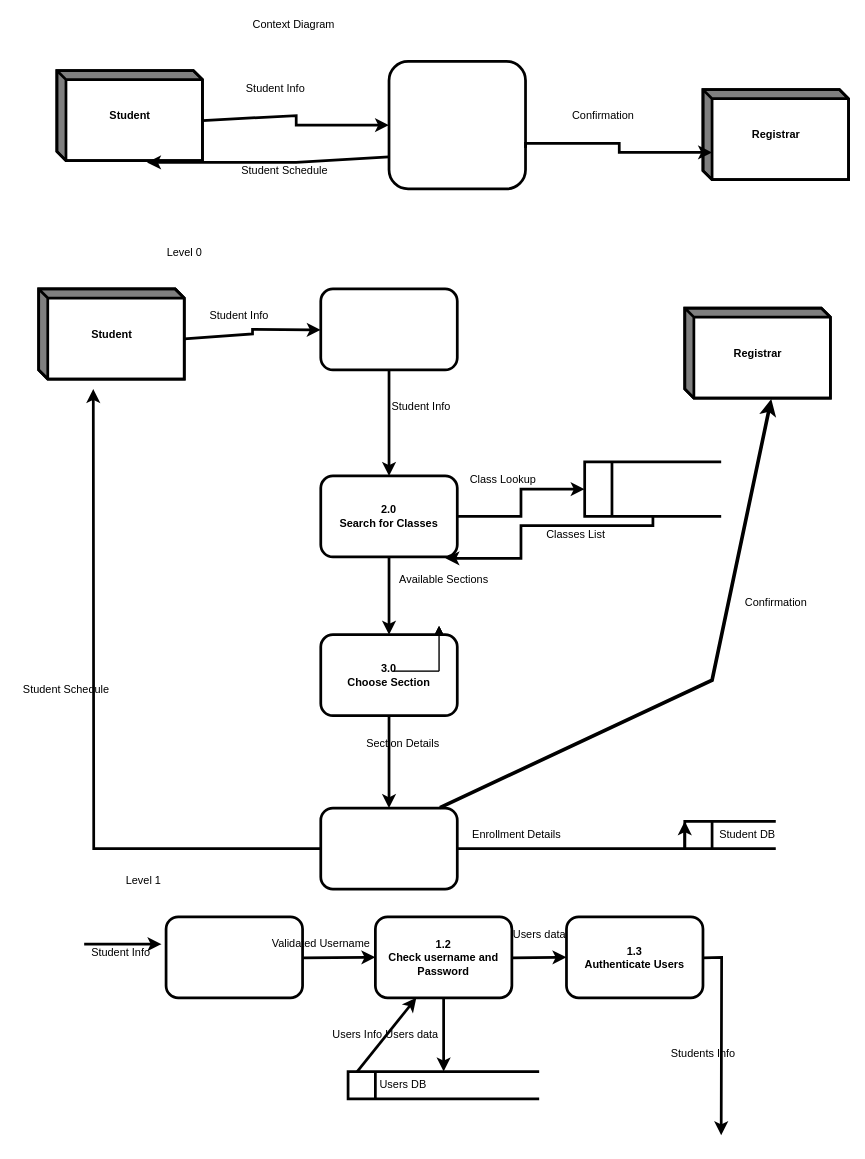
Some shapes in this 865 by 1159 pixel diagram are drawn without their labels. The box of each missing label's shape, as (x1, y1, x2, y2) in pixels:
0 Student Registration System: (387, 60, 526, 190)
1.0 Log-in: (319, 287, 458, 371)
1.1 Validate Username: (164, 915, 303, 999)
4.0 Enroll: (319, 806, 458, 890)
Classes DB: (583, 460, 722, 517)
